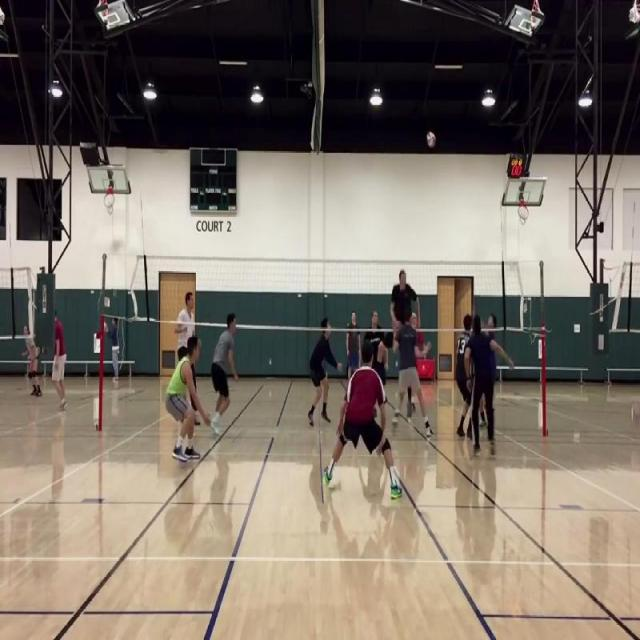volleyball: (426, 131, 436, 147)
